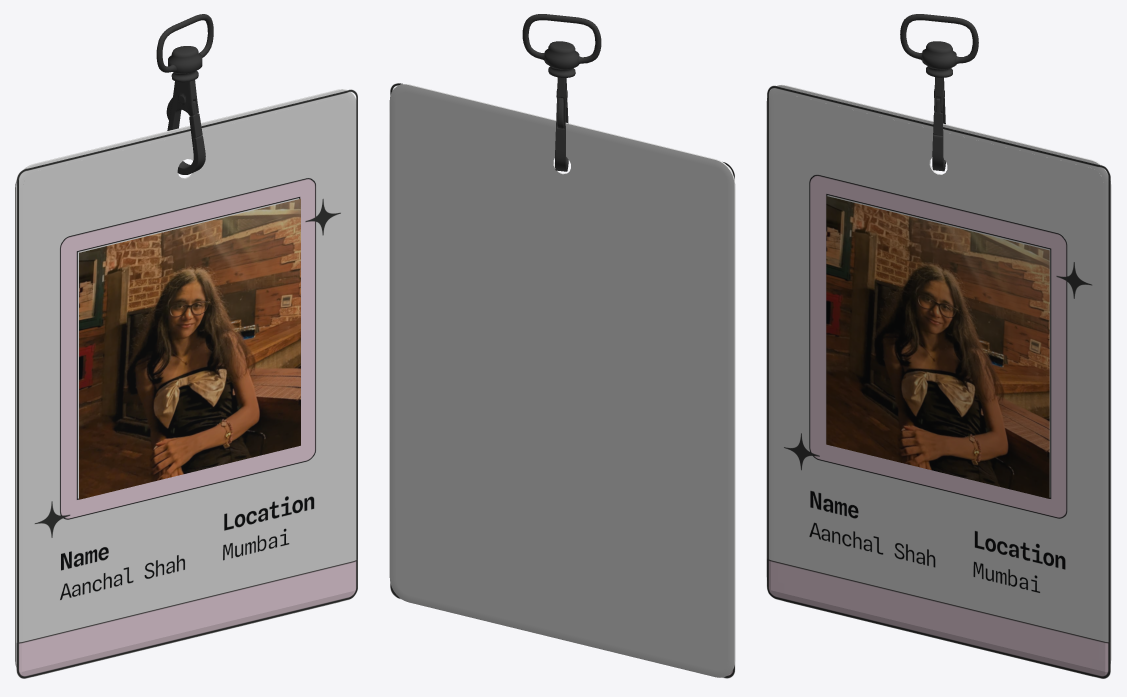
File: aanchalID.glb
3 renders of one model, left to right at view 1: azimuth 30°, elevation 25°; view 2: azimuth 150°, elevation 25°; view 3: azimuth 330°, elevation 25°, orthographic.
Parts seen in each view (by area): view 1: Untitled-1, card, clamp, clip; view 2: card, clip, clamp; view 3: Untitled-1, card, clip, clamp.
Boxes of the visible parts, bbox=[...] form: Untitled-1: bbox=[16, 89, 357, 678]; card: bbox=[15, 89, 356, 676]; clamp: bbox=[166, 80, 205, 174]; clip: bbox=[156, 14, 213, 82]; card: bbox=[389, 84, 735, 677]; clip: bbox=[522, 14, 601, 77]; clamp: bbox=[555, 77, 568, 171]; Untitled-1: bbox=[767, 85, 1110, 678]; card: bbox=[766, 85, 1111, 676]; clip: bbox=[900, 14, 978, 77]; clamp: bbox=[932, 77, 945, 171].
Bounding box in the file's own units: 0.8935 × 1.53 × 0.0903.
4 materials, 2 textured.
